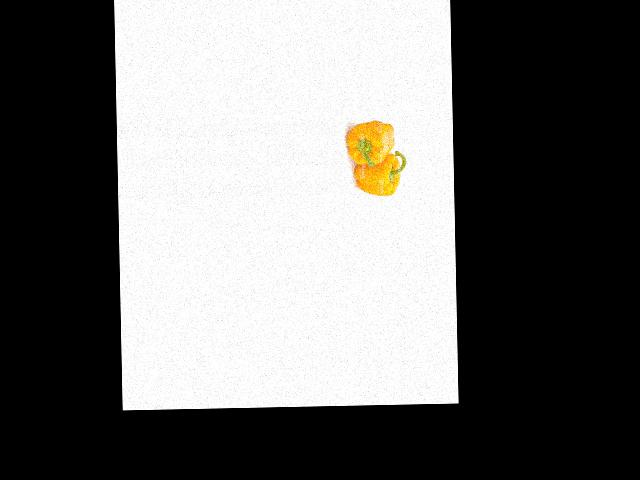bell_pepper: (353, 148, 405, 197)
